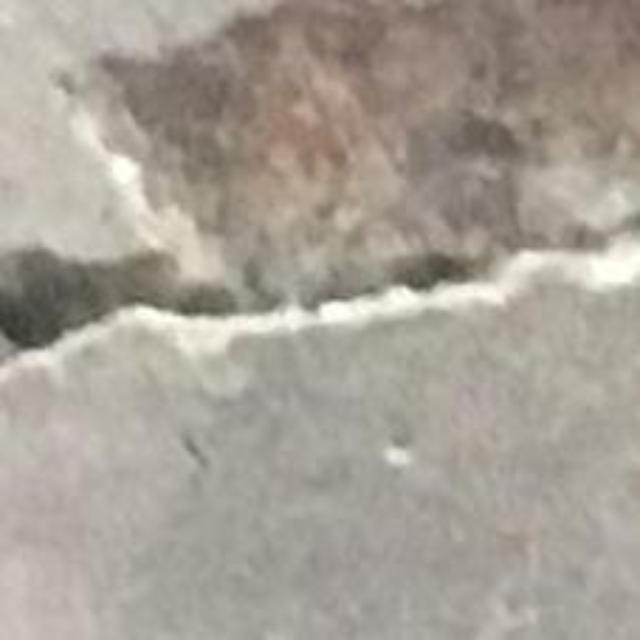crack: (0, 0, 639, 360)
